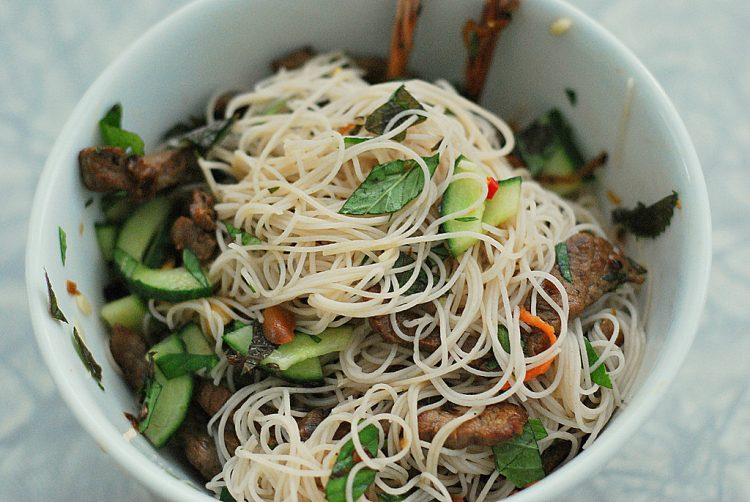beef: (534, 240, 643, 302)
